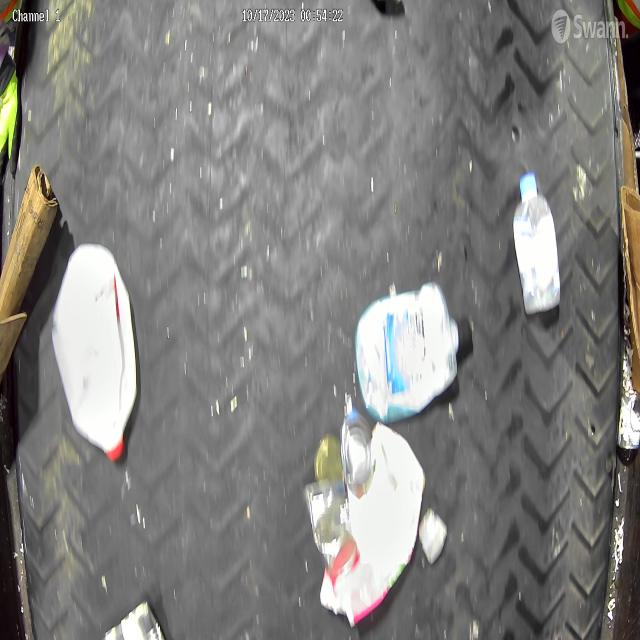can: (306, 481, 357, 576), (105, 599, 167, 640), (340, 410, 373, 484), (617, 390, 640, 451)
milk_jug: (51, 244, 137, 463)
non_white_jug: (321, 424, 426, 626), (355, 283, 459, 420)
plastic_bottle: (512, 172, 561, 316)
